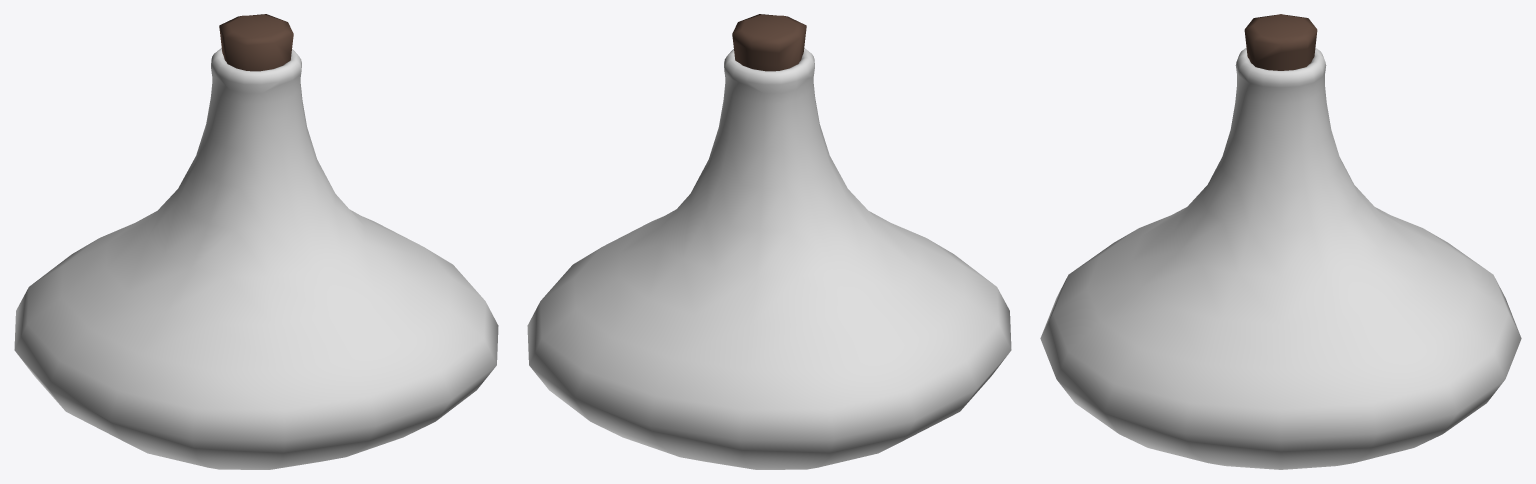
Rendered from quaternius-rpg-items-potion-8-empty.glb.
3 views of the same model, side by side, from view 1: azimuth 30°, elevation 25°; view 2: azimuth 150°, elevation 25°; view 3: azimuth 270°, elevation 25° (orthographic).
Parts seen in each view (by area): view 1: Potion8_Empty; view 2: Potion8_Empty; view 3: Potion8_Empty.
Boxes of the visible parts, box(x1,y1,x2,y2) form: Potion8_Empty: box(14, 14, 498, 469); Potion8_Empty: box(527, 14, 1011, 469); Potion8_Empty: box(1040, 14, 1521, 469).
Bounding box in the file's own units: 0.7035 × 0.6822 × 0.7035.
